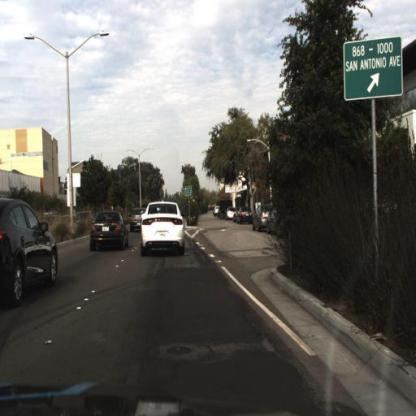car: (1, 197, 61, 305), (139, 200, 187, 256), (88, 206, 130, 255), (236, 206, 256, 229), (226, 207, 236, 225)
